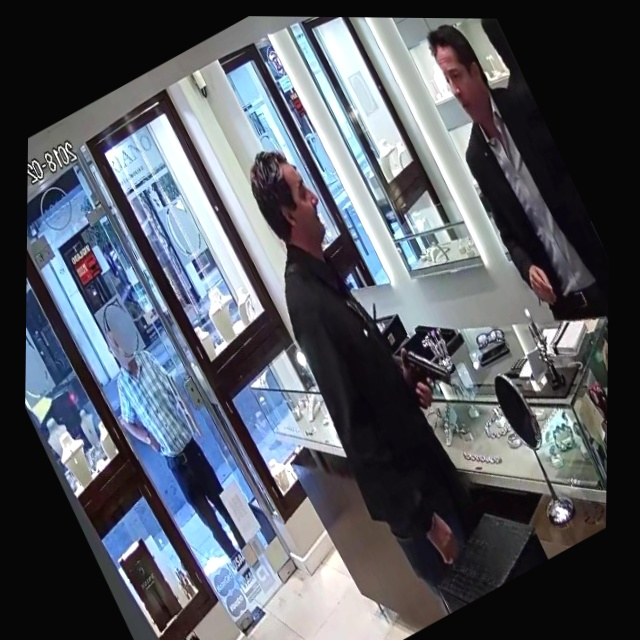gun: (380, 315, 470, 429)
